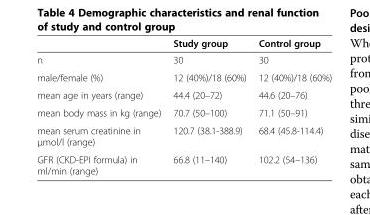table: (36, 37, 331, 175)
table column: (36, 37, 166, 175), (166, 37, 251, 175), (251, 37, 331, 175)
table column header: (36, 37, 331, 51)
table row: (36, 121, 331, 150), (36, 150, 331, 175), (36, 85, 331, 103), (36, 103, 331, 121), (36, 51, 331, 68), (36, 68, 331, 85), (36, 37, 331, 51)
